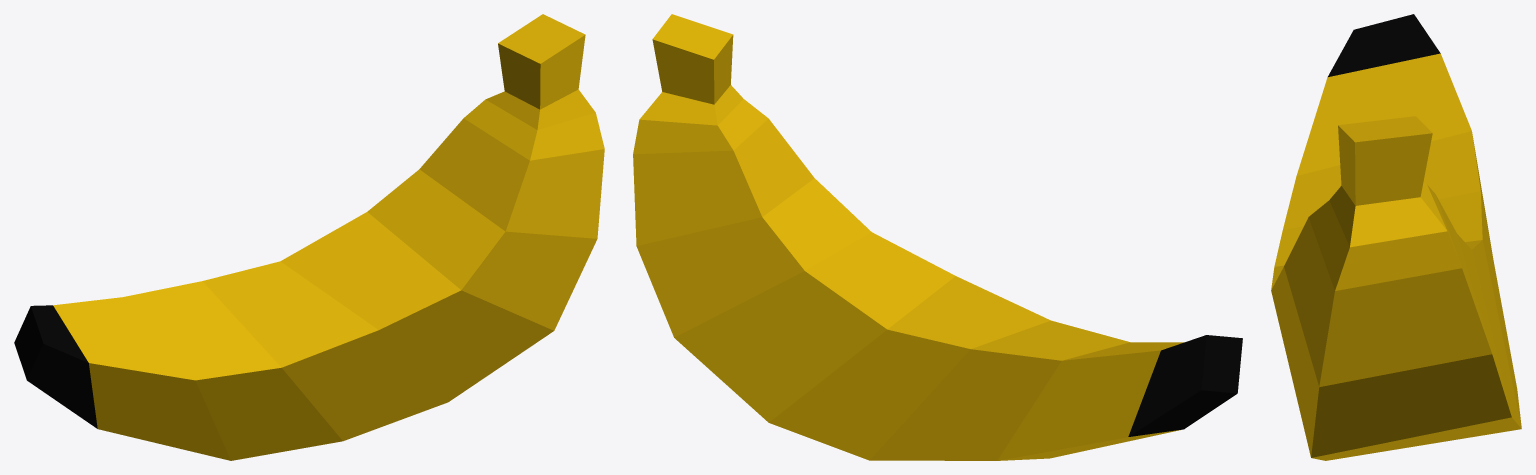
Rendered from banana.glb.
3 views of the same model, side by side, from view 1: azimuth 30°, elevation 25°; view 2: azimuth 150°, elevation 25°; view 3: azimuth 270°, elevation 25° (orthographic). The views are drawn at different scales.
Visible parts, largest first — view 1: banona; view 2: banona; view 3: banona.
Part boxes in pixels (left/top/right/bottom): banona: left=14, top=14, right=604, bottom=460; banona: left=633, top=14, right=1242, bottom=460; banona: left=1271, top=14, right=1521, bottom=460.
Size of the model in its own units: 3.96 by 2.29 by 1.21.
